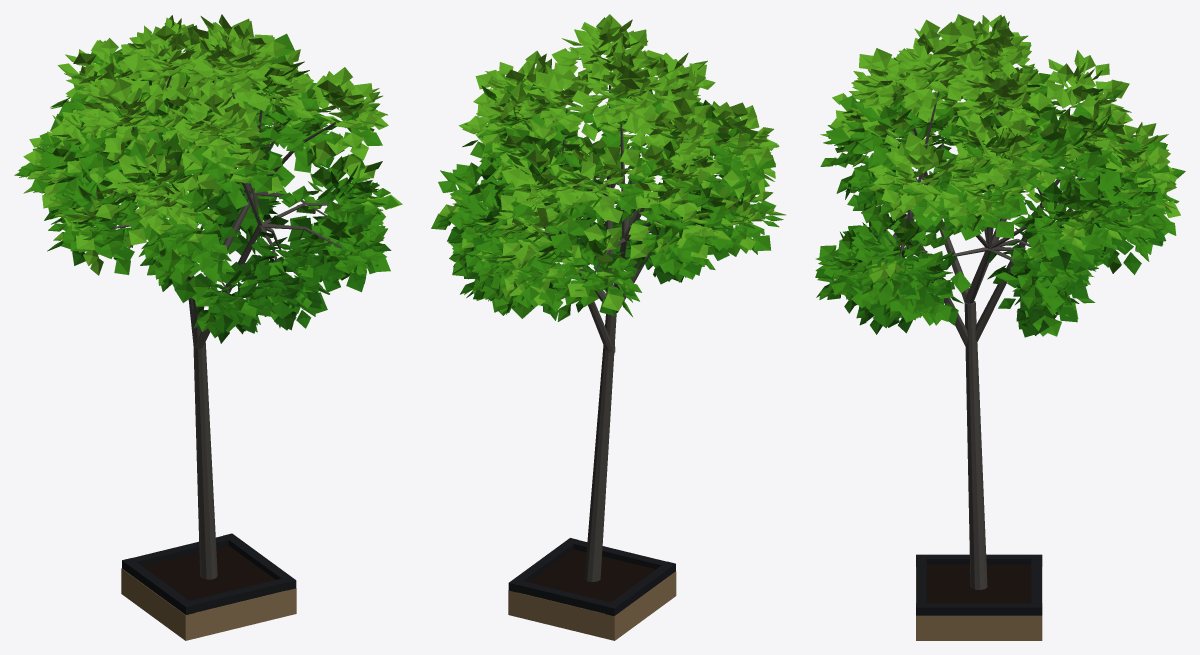
File: PV_StreetTree1.fbx
The picture shows the model from 3 angles, left to right: view 1: azimuth 30°, elevation 25°; view 2: azimuth 150°, elevation 25°; view 3: azimuth 270°, elevation 25°; orthographic projection. The views are drawn at different scales.
Parts seen in each view (by area): view 1: PV_StreetTree1_LOD0; view 2: PV_StreetTree1_LOD0; view 3: PV_StreetTree1_LOD0.
Part boxes in pixels (box(x1,y1,x2,y2)): PV_StreetTree1_LOD0: box(14, 14, 402, 640); PV_StreetTree1_LOD0: box(431, 14, 785, 640); PV_StreetTree1_LOD0: box(815, 14, 1185, 640).
Size of what is drawn, in the model's own units: 4.19 by 7.49 by 4.25.
Materials: 1 (1 with a texture image).
